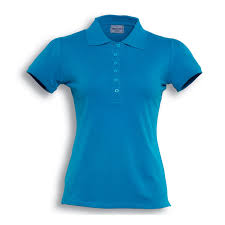C_polo shirt: (6, 11, 223, 203)
